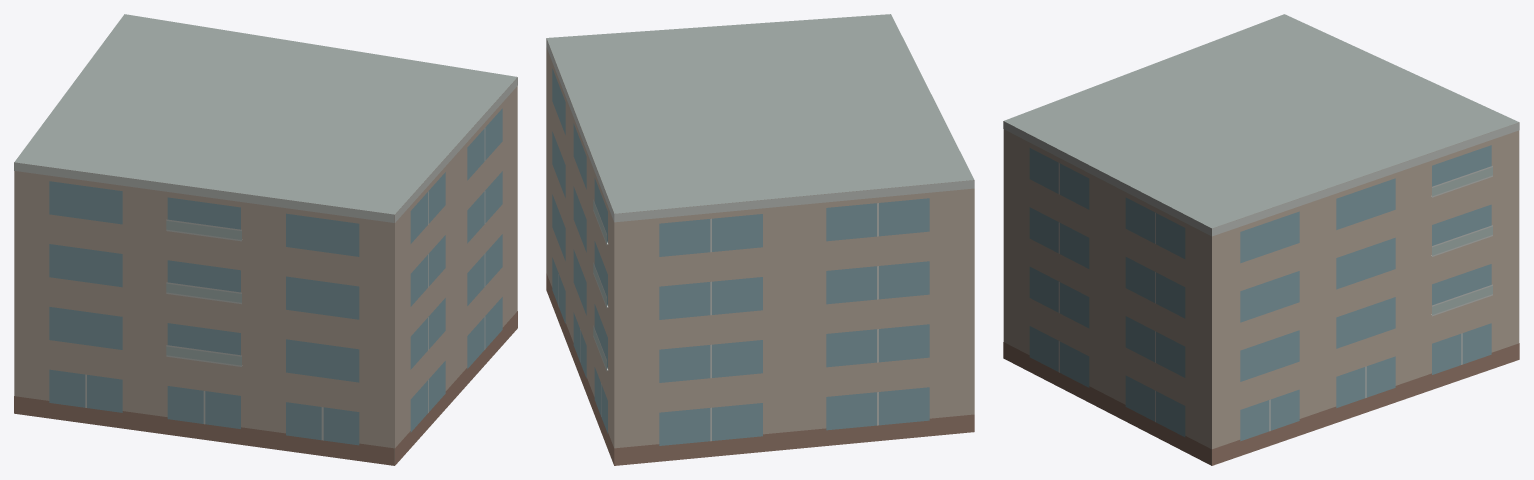
Rendered from survey-upis-32492685.glb.
3 views of the same model, side by side, from view 1: azimuth 30°, elevation 25°; view 2: azimuth 150°, elevation 25°; view 3: azimuth 270°, elevation 25° (orthographic). The views are drawn at different scales.
Visible parts, largest first — view 1: survey-upis-32492685.tmp; view 2: survey-upis-32492685.tmp; view 3: survey-upis-32492685.tmp.
Boxes of the visible parts, x1=… form: survey-upis-32492685.tmp: x1=14, y1=14, x2=517, y2=465; survey-upis-32492685.tmp: x1=546, y1=14, x2=974, y2=465; survey-upis-32492685.tmp: x1=1003, y1=14, x2=1519, y2=465.
Size of the model in its own units: 13.96 by 7.2 by 14.19.
